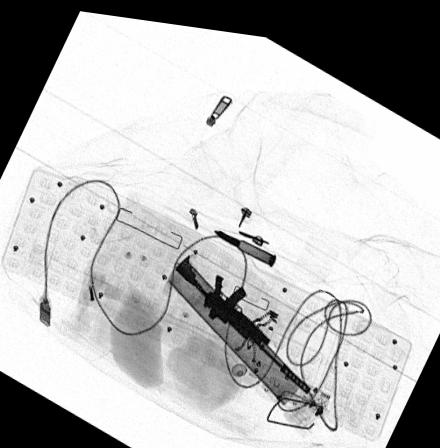Bullet: (213, 222, 275, 257)
Gun: (173, 248, 312, 383)
